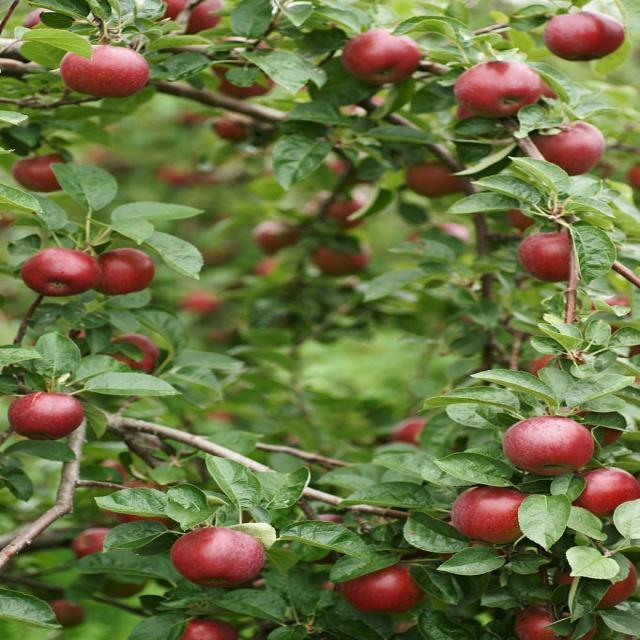Red Apple: (510, 415, 595, 476), (176, 528, 263, 580), (543, 10, 623, 62), (65, 47, 148, 95), (456, 60, 533, 110), (521, 233, 598, 279), (12, 391, 80, 443), (462, 487, 535, 535), (541, 118, 604, 173), (353, 565, 419, 608), (84, 251, 153, 291), (347, 34, 411, 77), (27, 253, 90, 295), (580, 471, 640, 511), (516, 611, 580, 640), (167, 1, 224, 32), (14, 160, 69, 190), (225, 68, 275, 99), (109, 337, 153, 372), (409, 166, 456, 196), (184, 620, 238, 640), (72, 527, 117, 549), (330, 196, 365, 220), (322, 252, 360, 272), (401, 423, 432, 446), (220, 119, 250, 142), (258, 222, 288, 242)
